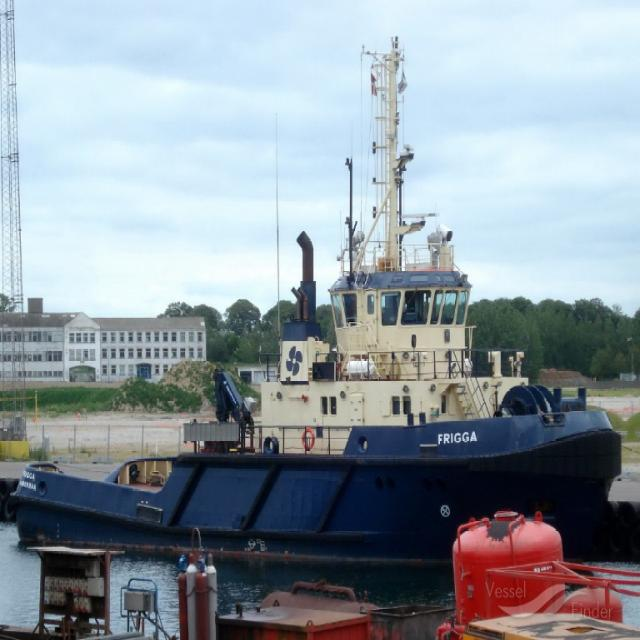tugboat: (19, 34, 622, 576)
